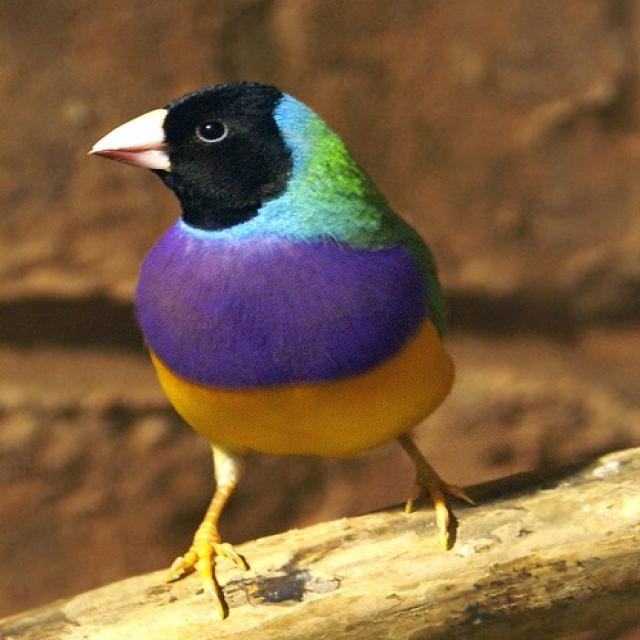bird: (86, 80, 476, 620)
